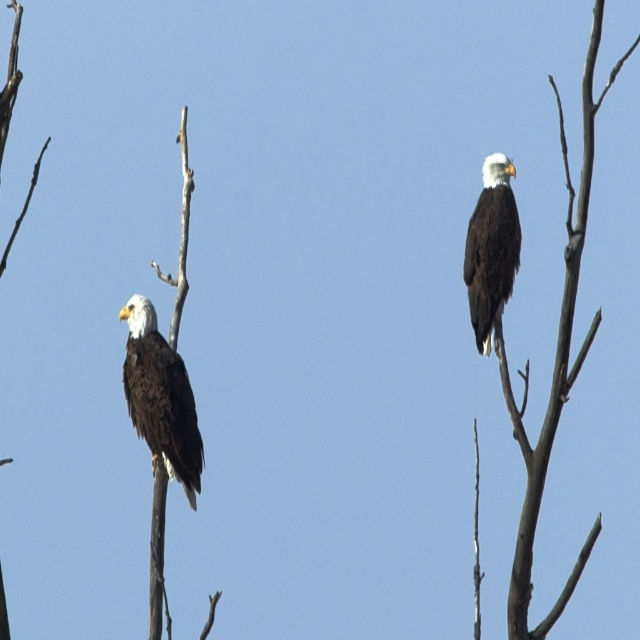Eagle: (117, 293, 206, 514), (463, 147, 523, 352)
